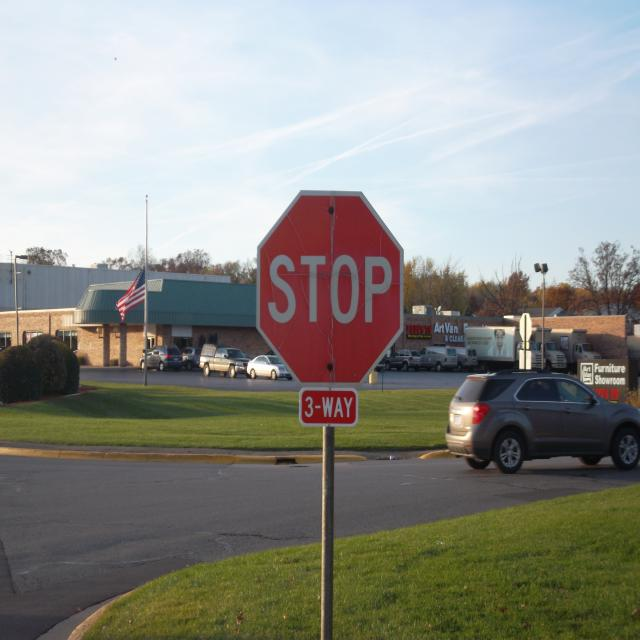stop: (261, 192, 405, 386)
